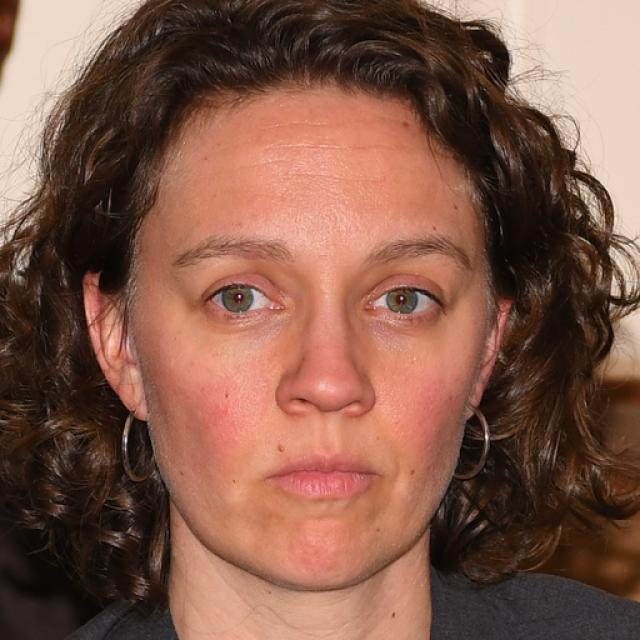Acne: (274, 438, 289, 459)
